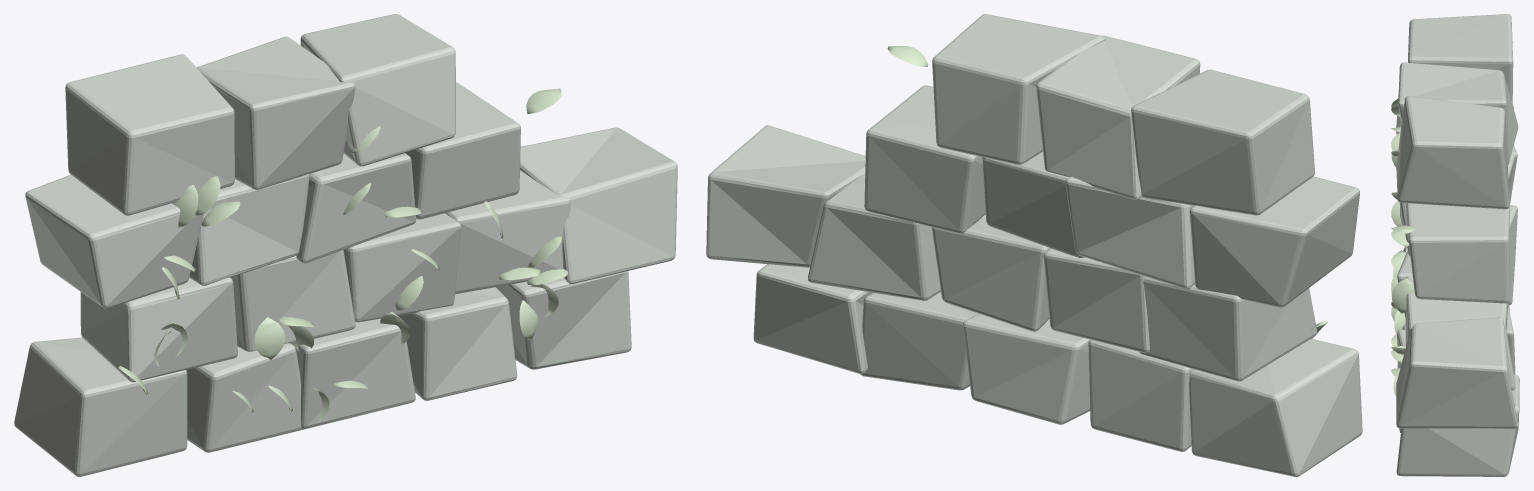
File: SM_WLA_WallRemnant_B.fbx
3 renders of one model, left to right at view 1: azimuth 30°, elevation 25°; view 2: azimuth 150°, elevation 25°; view 3: azimuth 270°, elevation 25°, orthographic. The views are drawn at different scales.
Parts seen in each view (by area): view 1: SM_WLA_WallRemnant_B; view 2: SM_WLA_WallRemnant_B; view 3: SM_WLA_WallRemnant_B.
Part boxes in pixels (x1=…): SM_WLA_WallRemnant_B: x1=14, y1=14, x2=677, y2=476; SM_WLA_WallRemnant_B: x1=706, y1=14, x2=1362, y2=476; SM_WLA_WallRemnant_B: x1=1391, y1=14, x2=1519, y2=476.
Size of what is drawn, in the model's own units: 0.6421 by 2.78 by 1.51.
